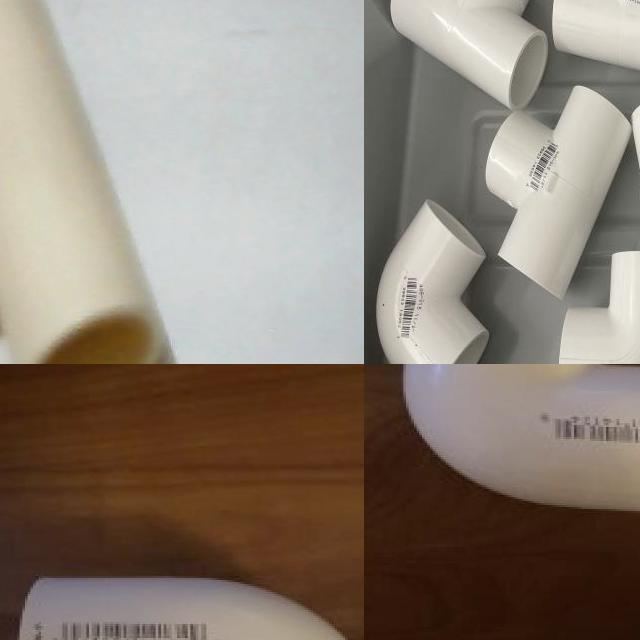L Joint: (402, 364, 640, 515), (16, 577, 346, 640), (376, 200, 491, 364), (559, 252, 640, 364)
T Joint: (486, 87, 632, 299), (389, 0, 551, 112)
